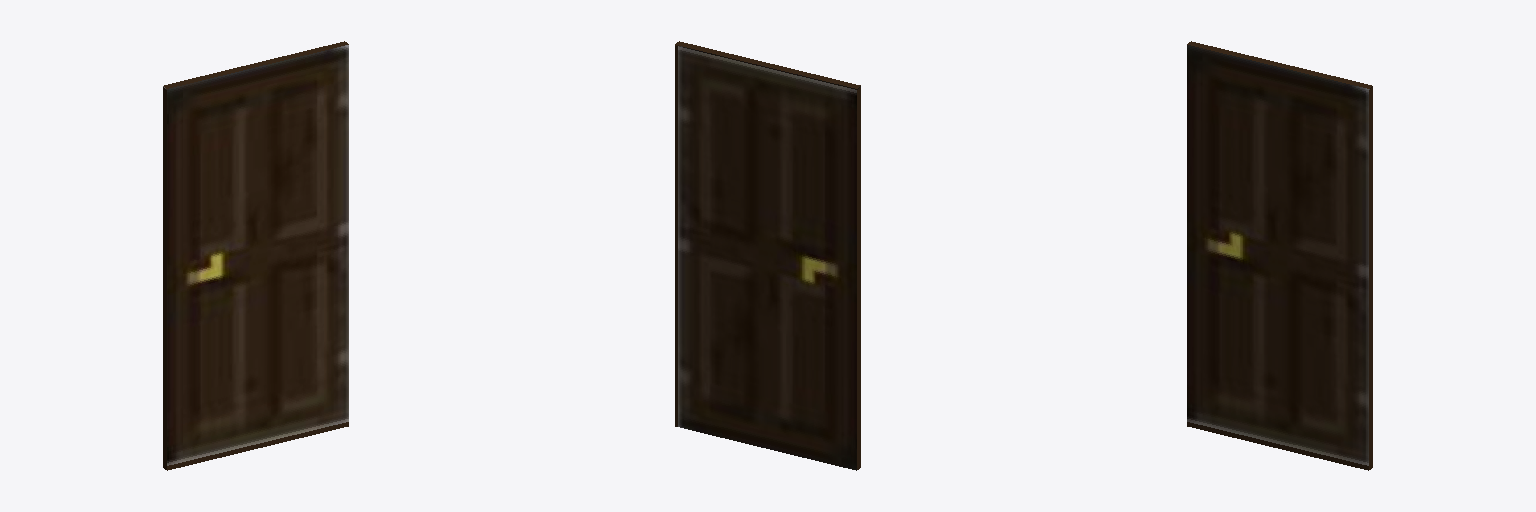
3 views of the same model, side by side, from view 1: azimuth 30°, elevation 25°; view 2: azimuth 150°, elevation 25°; view 3: azimuth 330°, elevation 25° (orthographic).
Visible parts, largest first — view 1: Cube; view 2: Cube; view 3: Cube.
Part boxes in pixels (left/top/right/bottom): Cube: left=163, top=41, right=348, bottom=470; Cube: left=675, top=41, right=860, bottom=470; Cube: left=1187, top=41, right=1372, bottom=470.
Size of the model in its own units: 2 by 4 by 0.086.
Materials: 1 (1 with a texture image).